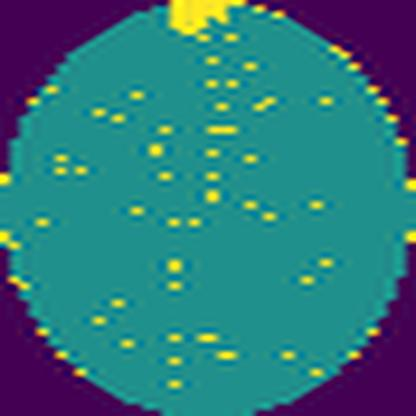Edge-Loc: (164, 0, 252, 41)
